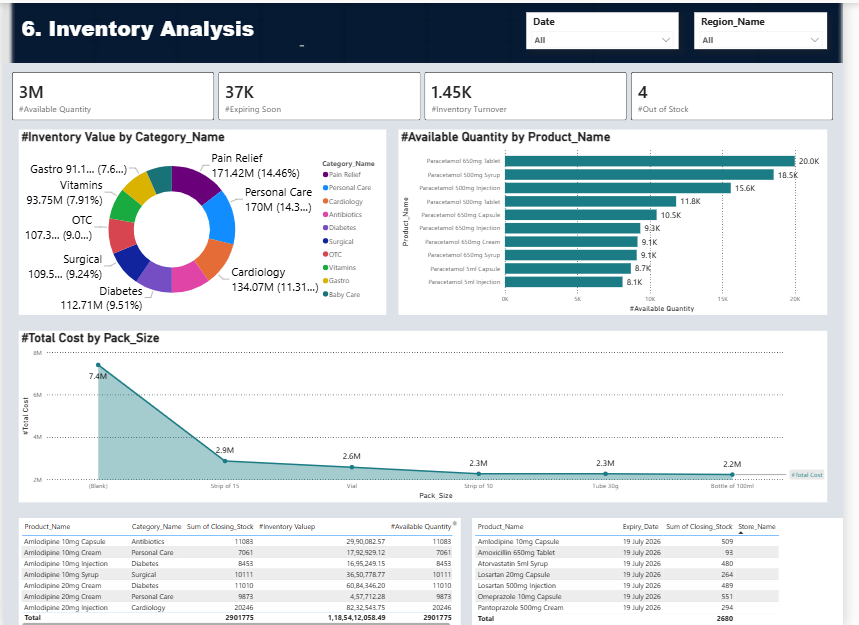

The page's visual inventory and layout, read from the dashboard file:
{"tool":"powerbi","page":{"name":"6.Inventory Analysis","canvas":[1600,1200],"ordinal":6},"visuals":[{"type":"image","box":[0,0,1600,120],"z":0},{"type":"textbox","title":"6. Inventory Analysis","box":[30,26.7,548.3,66.7],"z":1000},{"type":"slicer","fields":{"Values":["Dim_Date_Clean.Date"]},"box":[996.7,23.3,290,70],"z":2000},{"type":"slicer","fields":{"Values":["Dim_Region.Region_Name"]},"box":[1316.7,23.3,253.3,70],"z":3000},{"type":"cardVisual","fields":{"Data":["Fact_Inventory_Clean.#Available Quantity","Fact_Inventory_Clean.#Expiring Soon","Fact_Inventory_Clean.#Inventory Turnover","Fact_Inventory_Clean.#Out of Stock"]},"box":[0,120,1600,126.7],"z":4000},{"type":"clusteredBarChart","fields":{"Category":["Dim_Product.Product_Name"],"Y":["Fact_Inventory_Clean.#Available Quantity"]},"box":[753.3,246.7,816.7,353.3],"z":5000},{"type":"donutChart","fields":{"Y":["Fact_Sales_Clean (1).#Inventory Value"],"Category":["Dim_Category.Category_Name"]},"box":[30,246.7,700,353.3],"z":6000},{"type":"areaChart","fields":{"Category":["Dim_Product.Pack_Size"],"Y":["Fact_Sales_Clean (1).#Total Cost"]},"box":[30,630,1540,326.7],"z":7000},{"type":"tableEx","fields":{"Values":["Dim_Product.Product_Name","Fact_Inventory_Clean.Expiry_Date","Sum(Fact_Inventory_Clean.Closing_Stock)","Dim_Store.Store_Name"]},"box":[893.3,986.7,706.7,213.3],"z":8000},{"type":"tableEx","fields":{"Values":["Dim_Product.Product_Name","Dim_Category.Category_Name","Sum(Fact_Inventory_Clean.Closing_Stock)","Fact_Inventory_Clean.#Inventory Valuep","Fact_Inventory_Clean.#Available Quantity"]},"box":[30,986.7,840,213.3],"z":9000}]}

Visuals, with their boxes on the page's 1600x1200 design canvas (x1, y1, x2, y2). These are canvas units, not pixel positions in the 859x625 screenshot, which may show the page scaled, cropped or inside an application window:
image: rect(0, 0, 1600, 120)
"6. Inventory Analysis" textbox: rect(30, 27, 578, 93)
slicer - Dim_Date_Clean.Date: rect(997, 23, 1287, 93)
slicer - Dim_Region.Region_Name: rect(1317, 23, 1570, 93)
cardVisual - Fact_Inventory_Clean.#Available Quantity x Fact_Inventory_Clean.#Expiring Soon: rect(0, 120, 1600, 247)
clusteredBarChart - Dim_Product.Product_Name x Fact_Inventory_Clean.#Available Quantity: rect(753, 247, 1570, 600)
donutChart - Fact_Sales_Clean (1).#Inventory Value x Dim_Category.Category_Name: rect(30, 247, 730, 600)
areaChart - Dim_Product.Pack_Size x Fact_Sales_Clean (1).#Total Cost: rect(30, 630, 1570, 957)
tableEx - Dim_Product.Product_Name x Fact_Inventory_Clean.Expiry_Date: rect(893, 987, 1600, 1200)
tableEx - Dim_Product.Product_Name x Dim_Category.Category_Name: rect(30, 987, 870, 1200)
